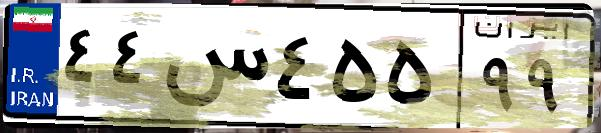4: (270, 28, 330, 110), (57, 26, 110, 100), (110, 28, 158, 98)
5: (385, 28, 445, 110), (330, 28, 385, 110)
9: (475, 38, 525, 113), (525, 38, 570, 115)
س: (158, 20, 270, 120)
